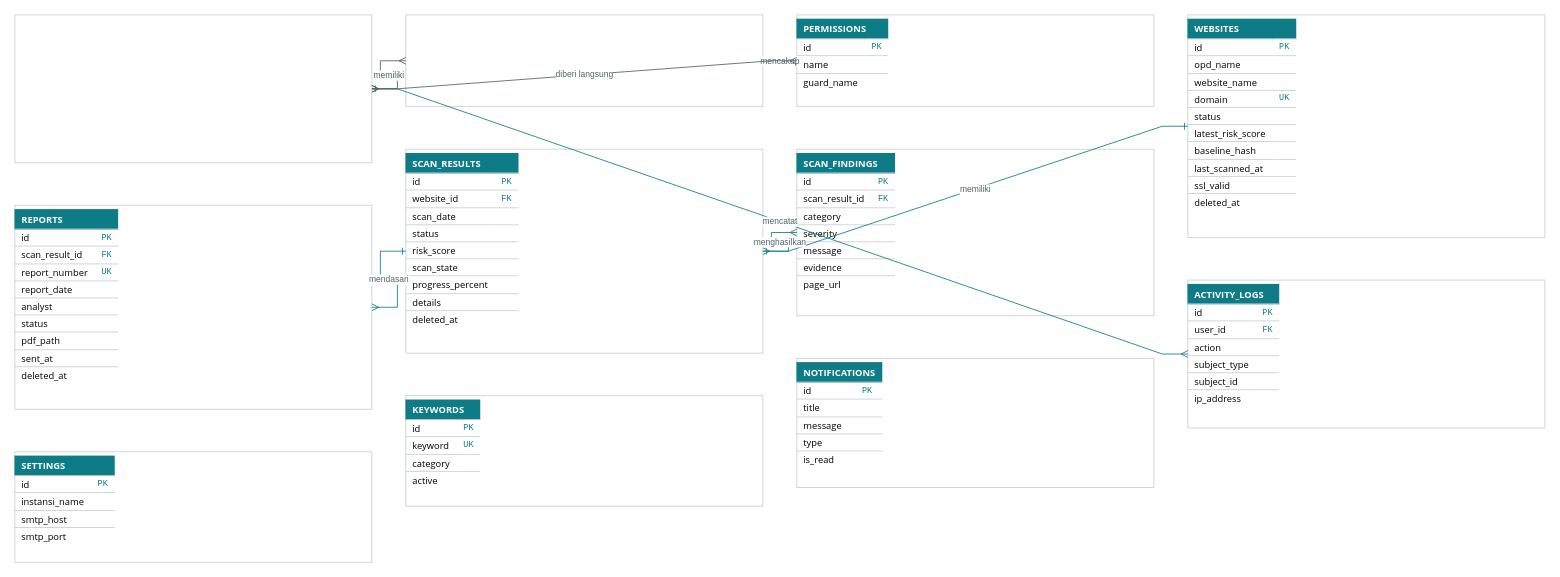
The diagram is 1560 pixels wide and 577 high, and some of its shapes have lost their labels. The box of each missing label's shape, as (x1, y1, x2, y2) in pixels:
ROLES id PK name guard_name: (405, 14, 763, 107)
USERS id PK name username UK email UK email_verified_at password: (14, 14, 372, 163)
